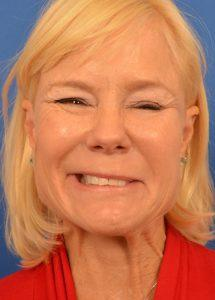strokeEyeWeak: (41, 73, 181, 119)
strokeMouthWeak: (51, 161, 153, 195)
